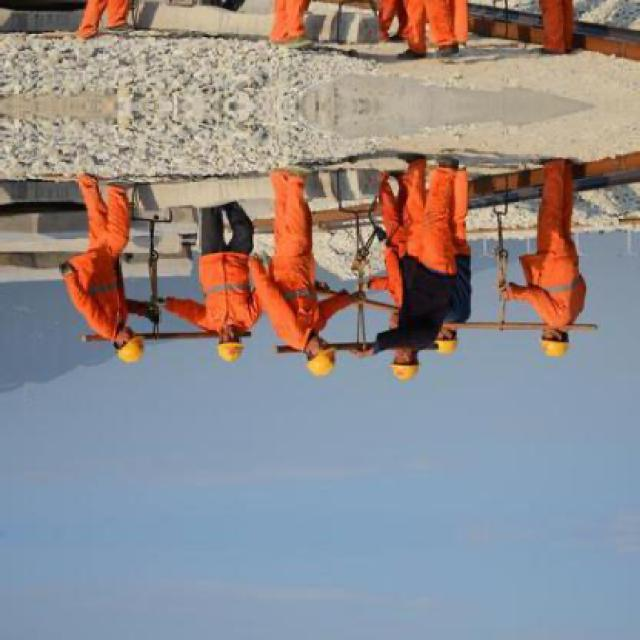con casco: (272, 313, 351, 389), (346, 339, 443, 400), (523, 306, 582, 372), (108, 335, 170, 387), (201, 329, 255, 375)
